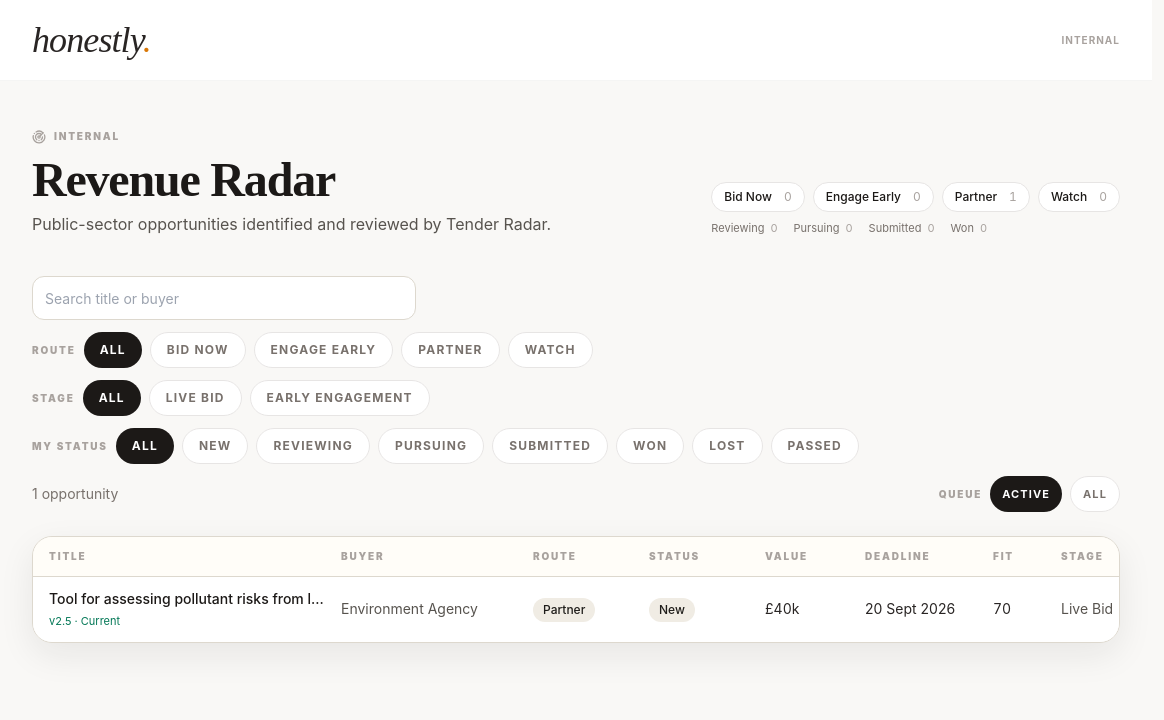
Test case: RevenueRadarScreen › renders the known Environment Agency opportunity and expands detail
The width and height of the screenshot is (1164, 720).
Expected: the heading "Revenue Radar" is shown, [32,153,335,206]
Expected: the text "Tool for assessing pollutant risks from landspreading" is shown, [49,589,329,609]
Click the button "Tool for assessing pollutant risks". click: coordinates (592, 609)
box: [33,577,1152,642]
(page scrolled)
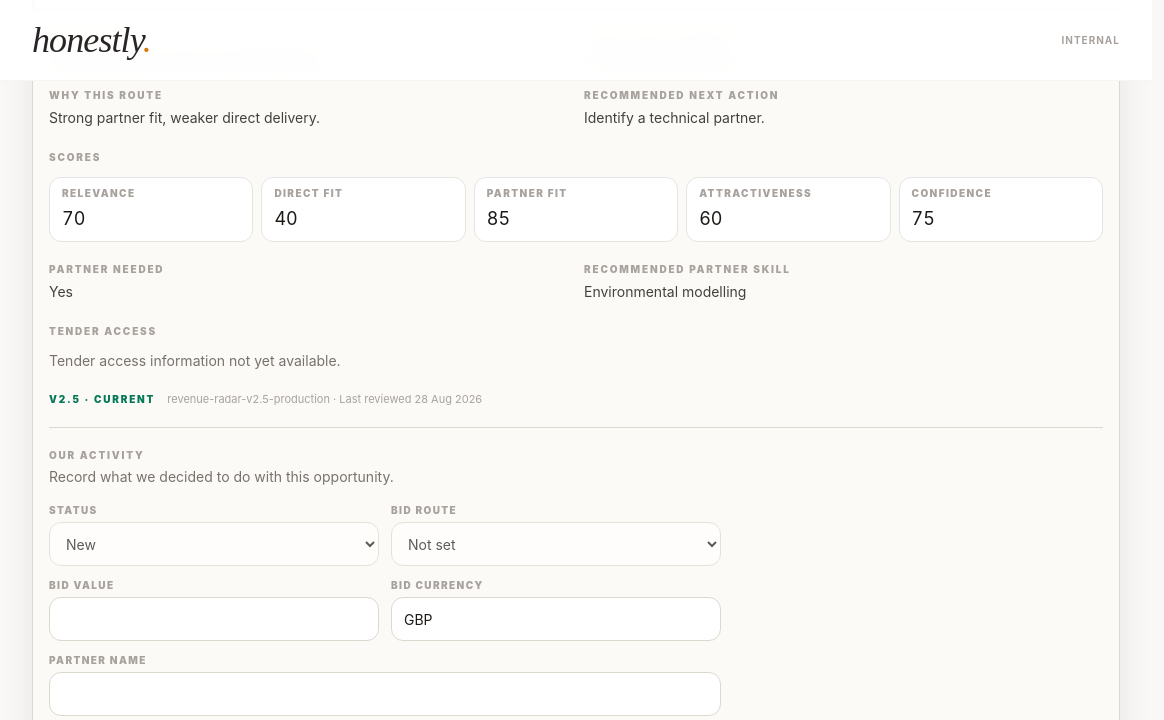
Result: the text "Recommended Partner Skill" is shown at [584,263,791,275]
Result: the text "Environmental modelling" is shown at [584,283,746,300]
Result: the text "Our Activity" is shown at [49,449,144,461]
